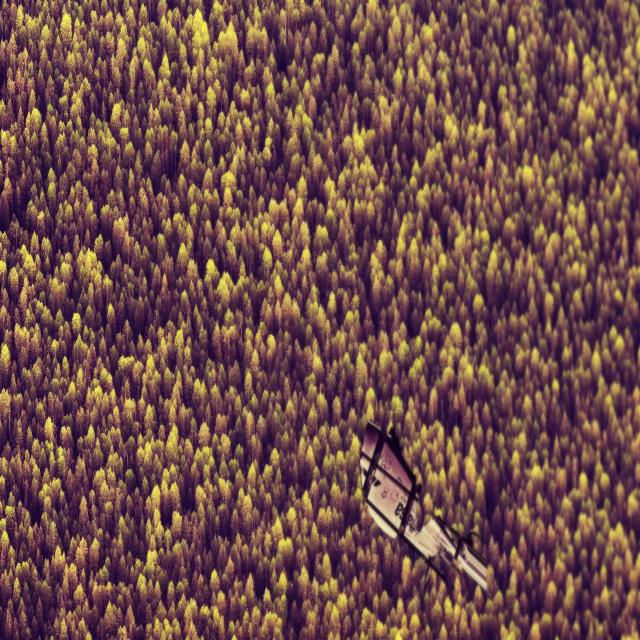airplane: (358, 419, 488, 595)
